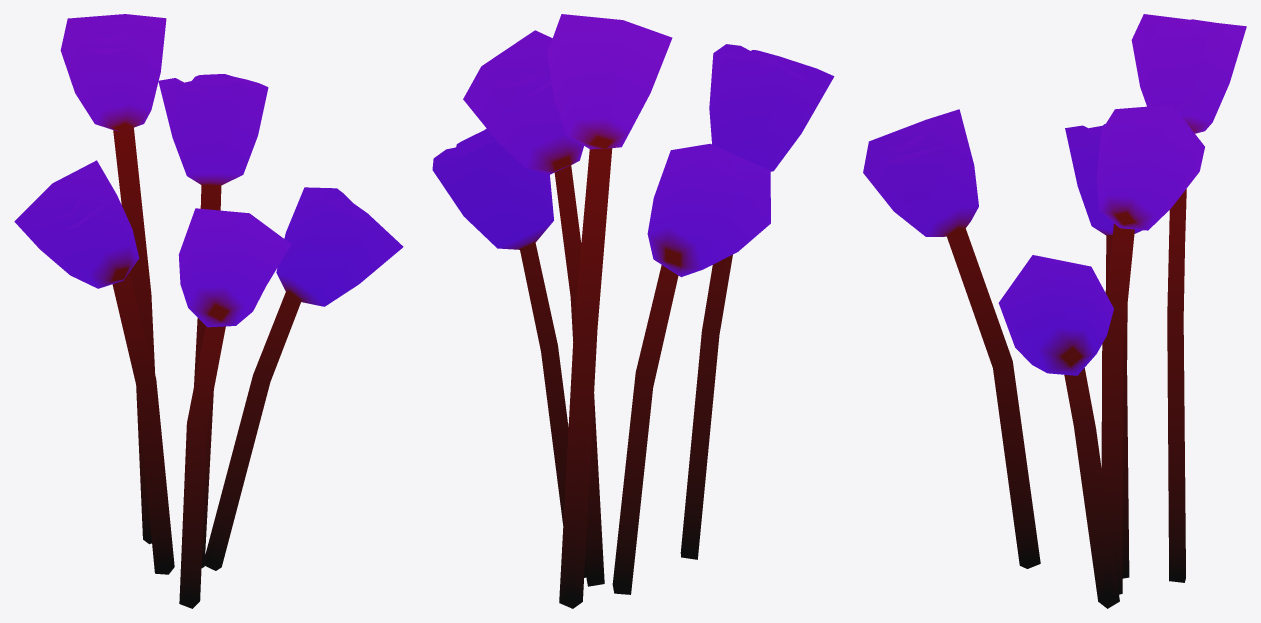
File: SM_Env_Flowers_01.glb
3 renders of one model, left to right at view 1: azimuth 30°, elevation 25°; view 2: azimuth 150°, elevation 25°; view 3: azimuth 270°, elevation 25°, orthographic. The views are drawn at different scales.
Parts seen in each view (by area): view 1: SM_Env_Flowers_01_LOD0; view 2: SM_Env_Flowers_01_LOD0; view 3: SM_Env_Flowers_01_LOD0.
Boxes of the visible parts, box(x1,y1,x2,y2) form: SM_Env_Flowers_01_LOD0: box(14, 14, 403, 608); SM_Env_Flowers_01_LOD0: box(432, 14, 834, 608); SM_Env_Flowers_01_LOD0: box(863, 14, 1246, 608).
Size of what is drawn, in the model's own units: 0.556 by 0.8828 by 0.5576.
